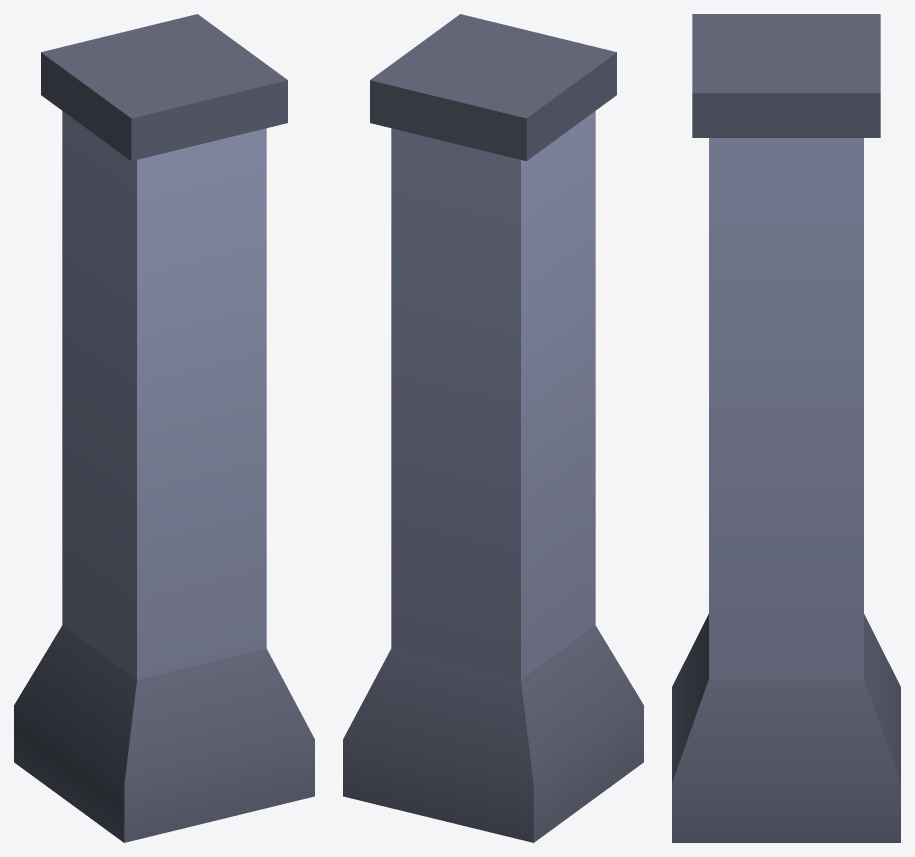
File: nc_elevated_pillar.glb
3 renders of one model, left to right at view 1: azimuth 30°, elevation 25°; view 2: azimuth 150°, elevation 25°; view 3: azimuth 270°, elevation 25°, orthographic. The views are drawn at different scales.
Parts seen in each view (by area): view 1: bridge-pillar-wide; view 2: bridge-pillar-wide; view 3: bridge-pillar-wide.
Part boxes in pixels (x1,y1,x2,y2): bridge-pillar-wide: (14, 14, 314, 842); bridge-pillar-wide: (343, 14, 643, 842); bridge-pillar-wide: (672, 14, 900, 842).
Size of the model in its own units: 2.8 by 10 by 2.8.
Materials: 1 (1 with a texture image).
